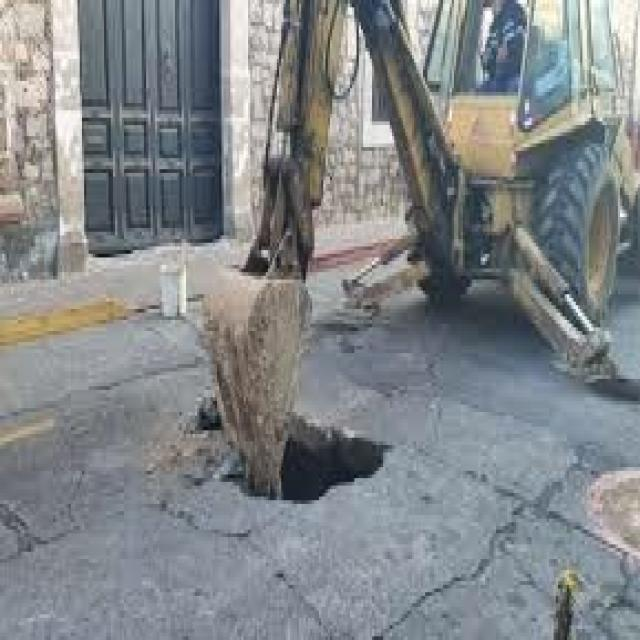Pothole: (120, 368, 482, 559)
